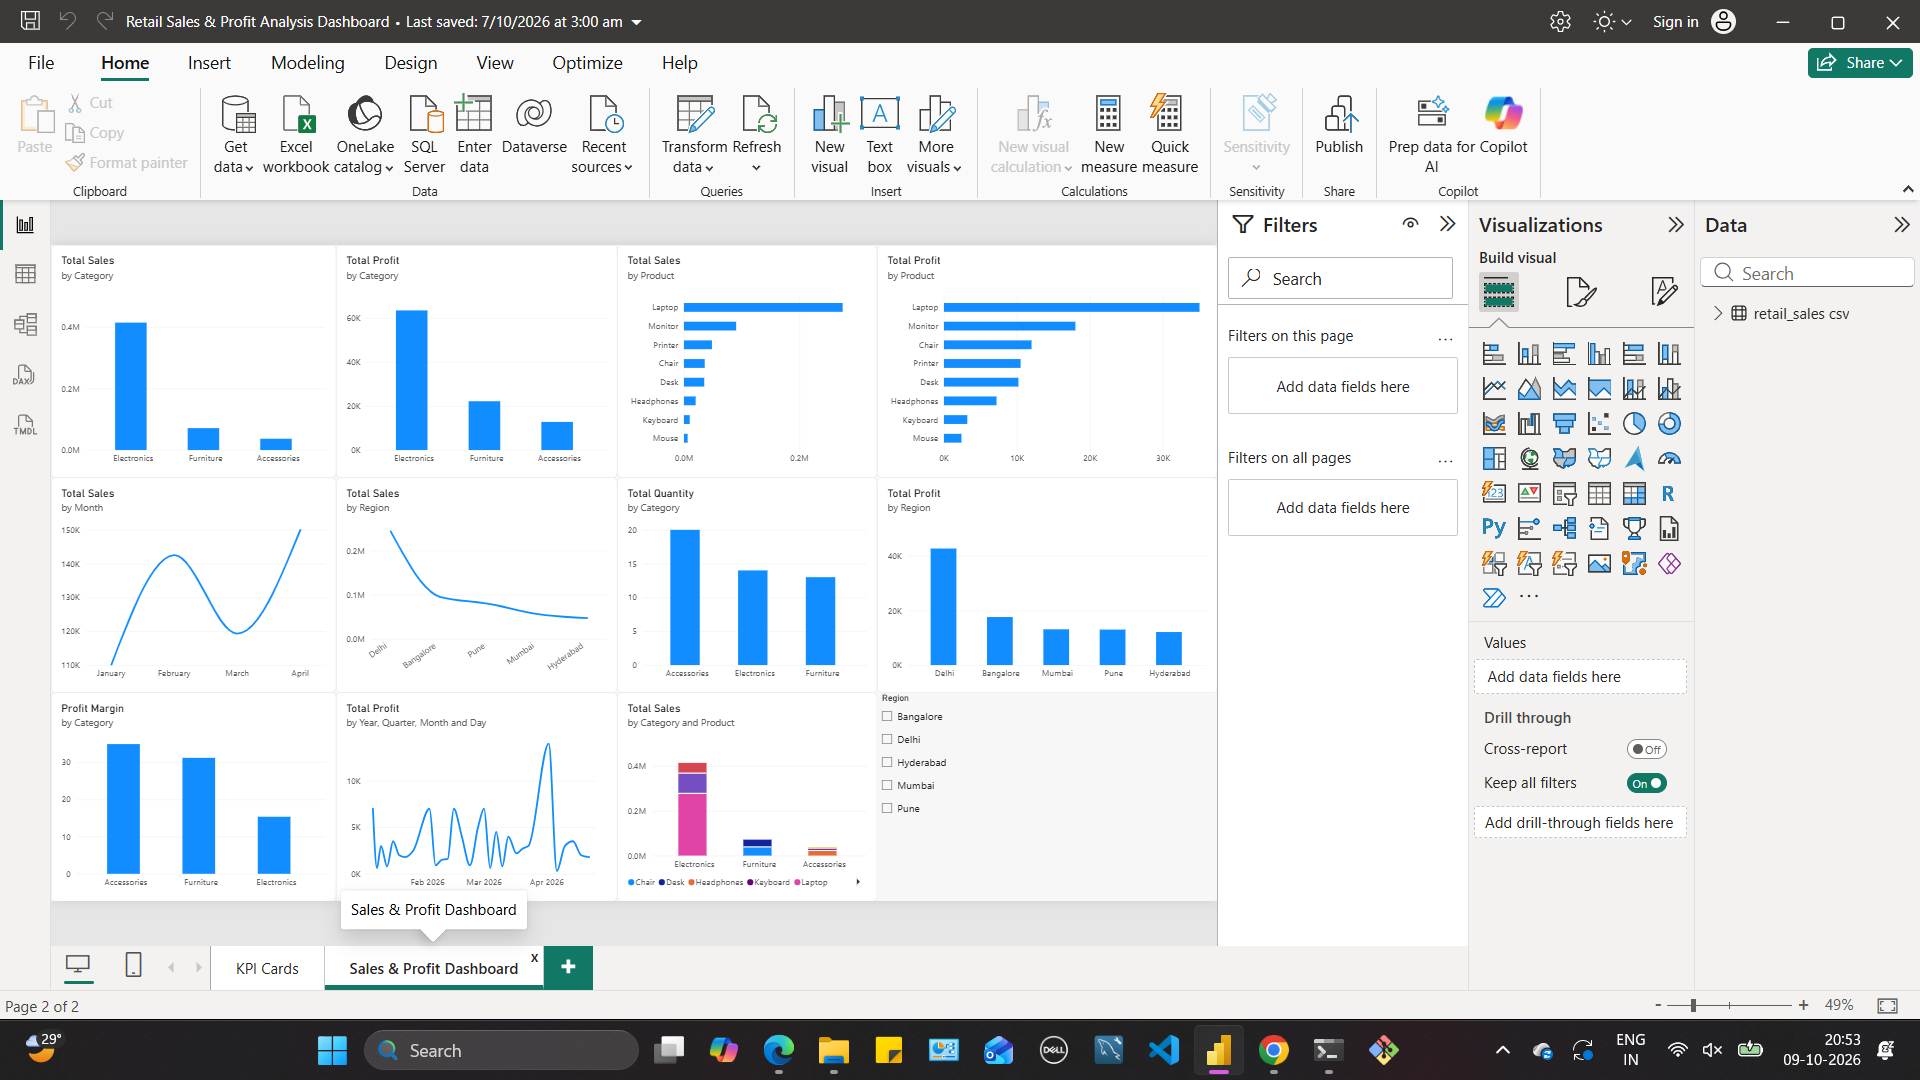

What the dashboard file says about the page in this screenshot:
{"tool":"powerbi","page":{"name":"Sales & Profit Dashboard","canvas":[1920,1080],"ordinal":1},"visuals":[{"type":"columnChart","fields":{"Category":["retail_sales csv.Category"],"Y":["retail_sales csv.Total Sales"]},"box":[0,0,469.3,382.8],"z":0},{"type":"columnChart","fields":{"Category":["retail_sales csv.Category"],"Y":["retail_sales csv.Total Profit"]},"box":[469.3,0,463.1,382.8],"z":1},{"type":"barChart","fields":{"Category":["retail_sales csv.Product"],"Y":["retail_sales csv.Total Sales"]},"box":[932.4,0,428.1,382.8],"z":2},{"type":"barChart","fields":{"Category":["retail_sales csv.Product"],"Y":["retail_sales csv.Total Profit"]},"box":[1360.6,0,559.9,382.8],"z":3},{"type":"lineChart","fields":{"Category":["retail_sales csv.Region"],"Y":["retail_sales csv.Total Sales"]},"box":[469.3,382.8,463.1,354],"z":4},{"type":"lineChart","fields":{"Category":["retail_sales csv.Order_Date.Variation.Date Hierarchy.Month"],"Y":["retail_sales csv.Total Sales"]},"box":[0,382.8,469.3,354],"z":5},{"type":"columnChart","fields":{"Category":["retail_sales csv.Category"],"Y":["retail_sales csv.Total Quantity"]},"box":[932.4,382.8,428.1,354],"z":6},{"type":"columnChart","fields":{"Category":["retail_sales csv.Region"],"Y":["retail_sales csv.Total Profit"]},"box":[1360.6,382.8,559.9,354],"z":7},{"type":"columnChart","fields":{"Category":["retail_sales csv.Category"],"Y":["retail_sales csv.Profit Margin"]},"box":[0,736.9,469.3,343.7],"z":8},{"type":"lineChart","fields":{"Category":["retail_sales csv.Order_Date.Variation.Date Hierarchy.Year","retail_sales csv.Order_Date.Variation.Date Hierarchy.Quarter","retail_sales csv.Order_Date.Variation.Date Hierarchy.Month","retail_sales csv.Order_Date.Variation.Date Hierarchy.Day"],"Y":["retail_sales csv.Total Profit"]},"box":[469.3,736.9,463.1,343.7],"z":9},{"type":"columnChart","fields":{"Category":["retail_sales csv.Category"],"Series":["retail_sales csv.Product"],"Y":["retail_sales csv.Total Sales"]},"box":[932.4,736.9,428.1,343.7],"z":10},{"type":"slicer","fields":{"Values":["retail_sales csv.Region"]},"box":[1361,737,559,343],"z":11}]}

Visuals, with their boxes on the page's 1920x1080 design canvas (x1, y1, x2, y2). These are canvas units, not pixel positions in the 1920x1080 screenshot, which may show the page scaled, cropped or inside an application window:
columnChart - retail_sales csv.Category x retail_sales csv.Total Sales: locate(0, 0, 469, 383)
columnChart - retail_sales csv.Category x retail_sales csv.Total Profit: locate(469, 0, 932, 383)
barChart - retail_sales csv.Product x retail_sales csv.Total Sales: locate(932, 0, 1360, 383)
barChart - retail_sales csv.Product x retail_sales csv.Total Profit: locate(1361, 0, 1920, 383)
lineChart - retail_sales csv.Region x retail_sales csv.Total Sales: locate(469, 383, 932, 737)
lineChart - retail_sales csv.Order_Date.Variation.Date Hierarchy.Month x retail_sales csv.Total Sales: locate(0, 383, 469, 737)
columnChart - retail_sales csv.Category x retail_sales csv.Total Quantity: locate(932, 383, 1360, 737)
columnChart - retail_sales csv.Region x retail_sales csv.Total Profit: locate(1361, 383, 1920, 737)
columnChart - retail_sales csv.Category x retail_sales csv.Profit Margin: locate(0, 737, 469, 1081)
lineChart - retail_sales csv.Order_Date.Variation.Date Hierarchy.Year x retail_sales csv.Order_Date.Variation.Date Hierarchy.Quarter: locate(469, 737, 932, 1081)
columnChart - retail_sales csv.Category x retail_sales csv.Product: locate(932, 737, 1360, 1081)
slicer - retail_sales csv.Region: locate(1361, 737, 1920, 1080)
